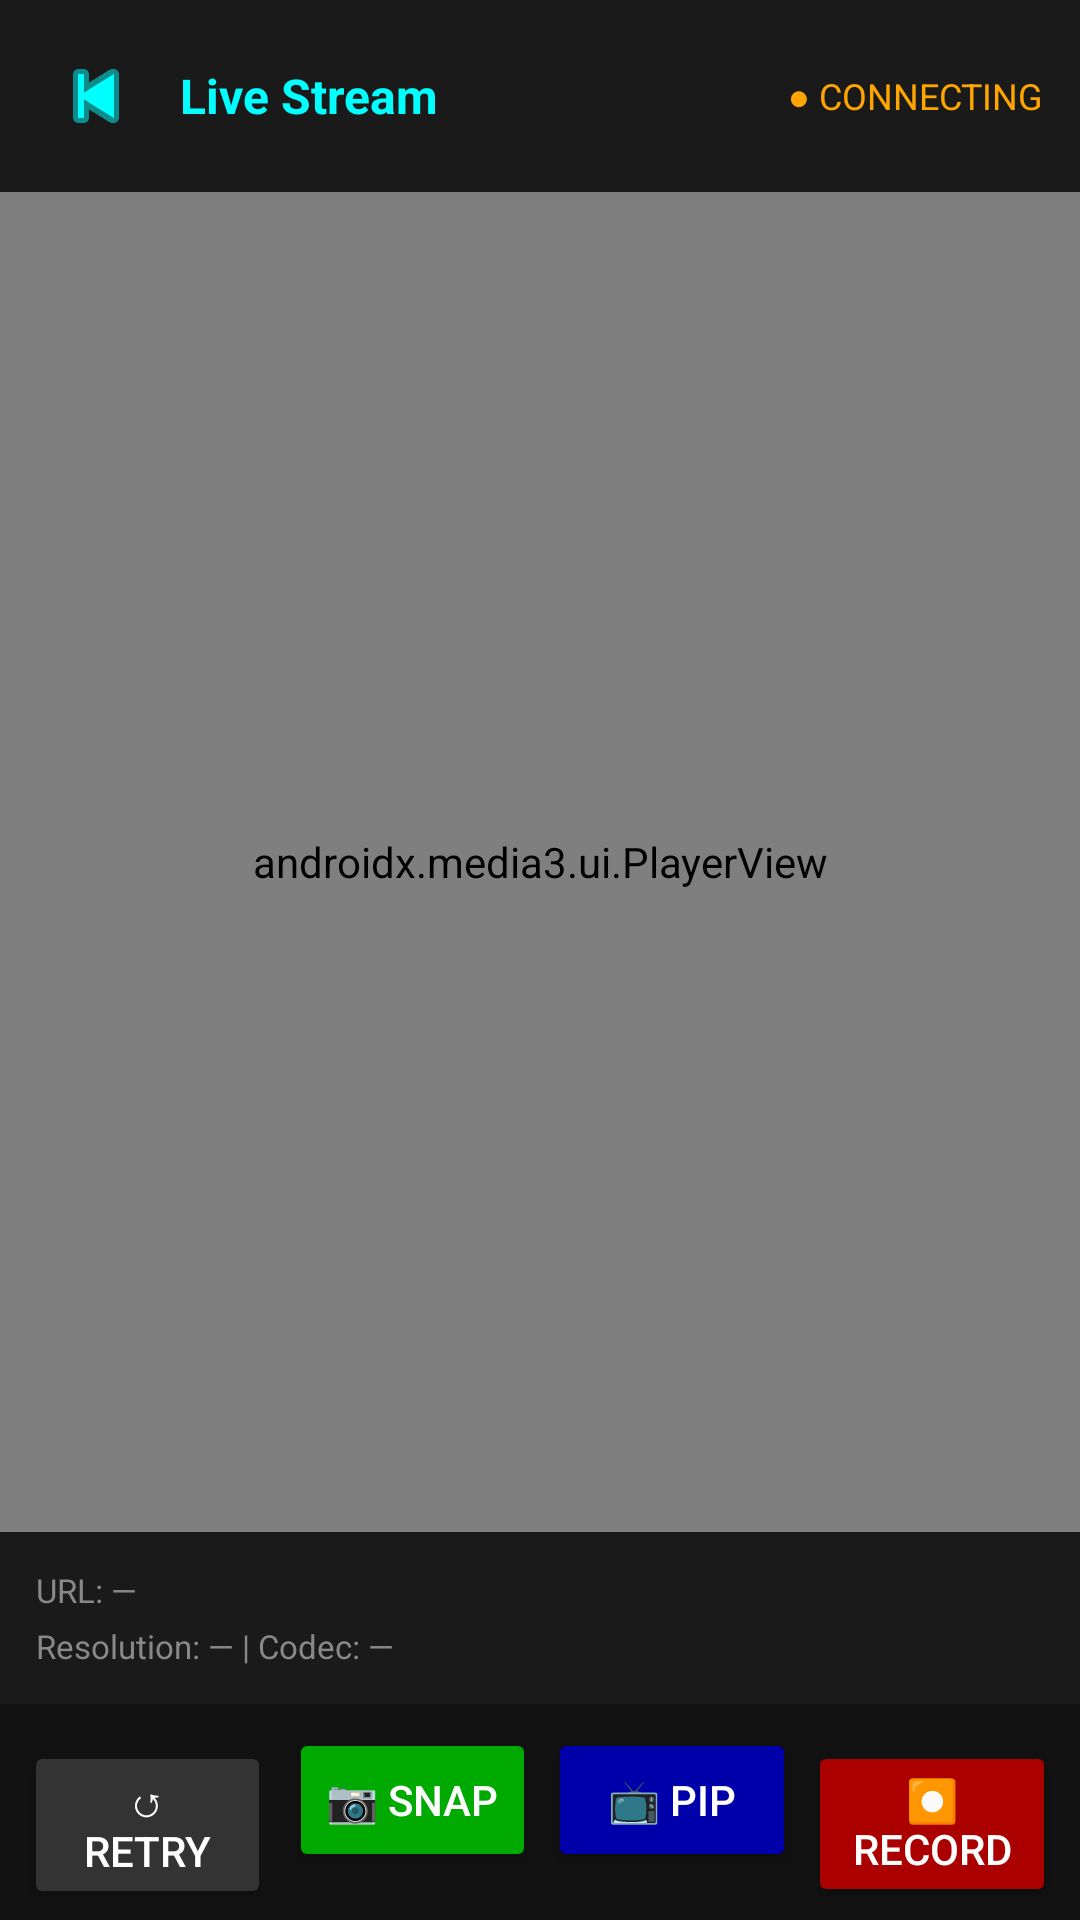

Where to tap for icons on this 1080px x 1920px app screen, as (x,y):
Back: (96,96)
